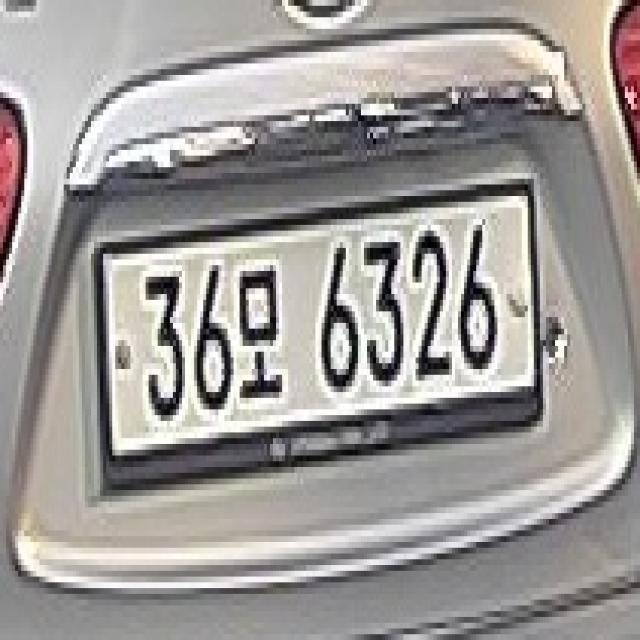plat: (85, 175, 547, 491)
